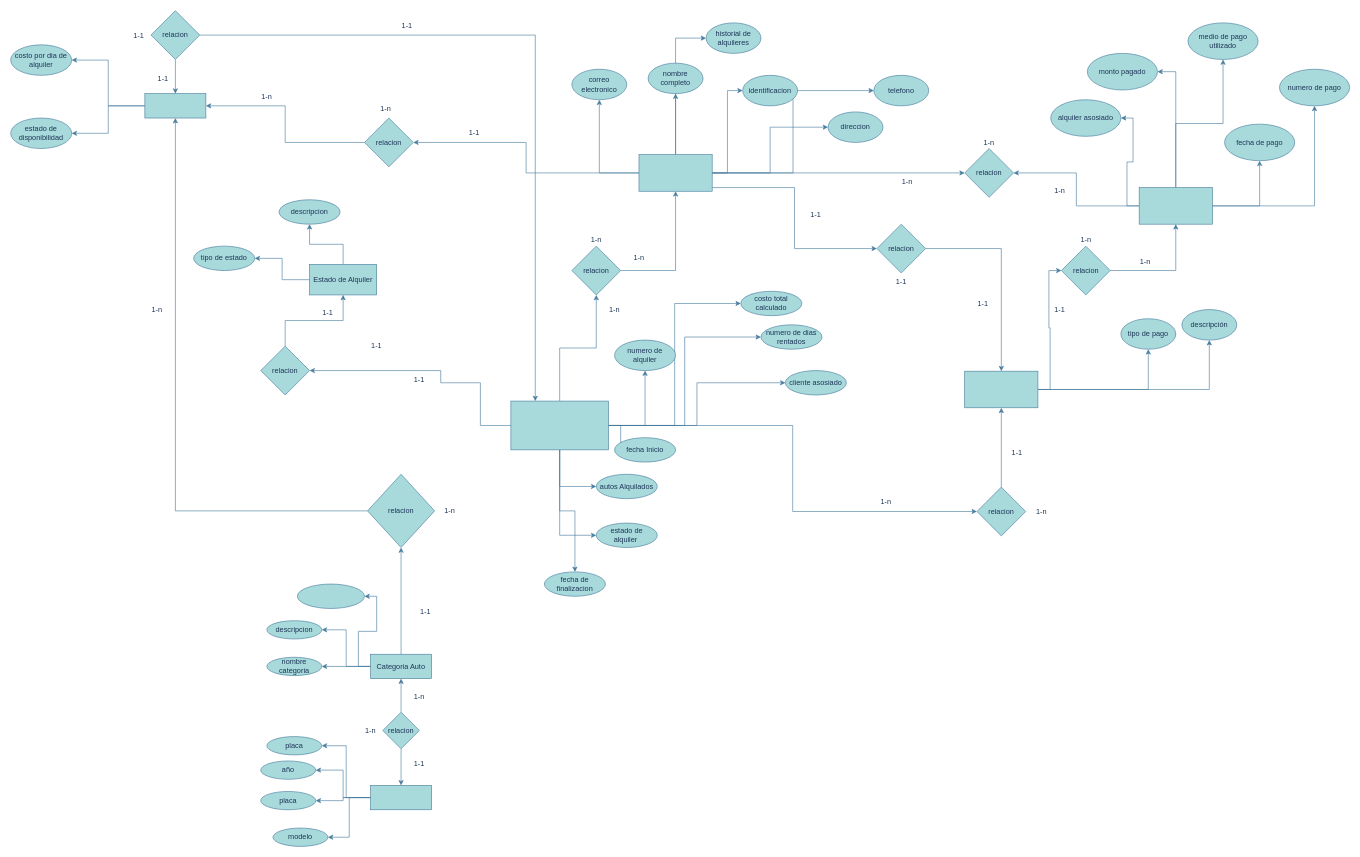
This 1360x857 diagram has some shape labels left out. The centre of each missing label's shape, as x and y in pixels:
"Alquiler" belongs at (559,425).
"Auto" belongs at (401,797).
"Categoria" belongs at (175,105).
"Cliente" belongs at (675,172).
"Medio De Pago" belongs at (1001,389).
"Pago" belongs at (1175,205).
"tarifa base por dia" belongs at (330,595).
